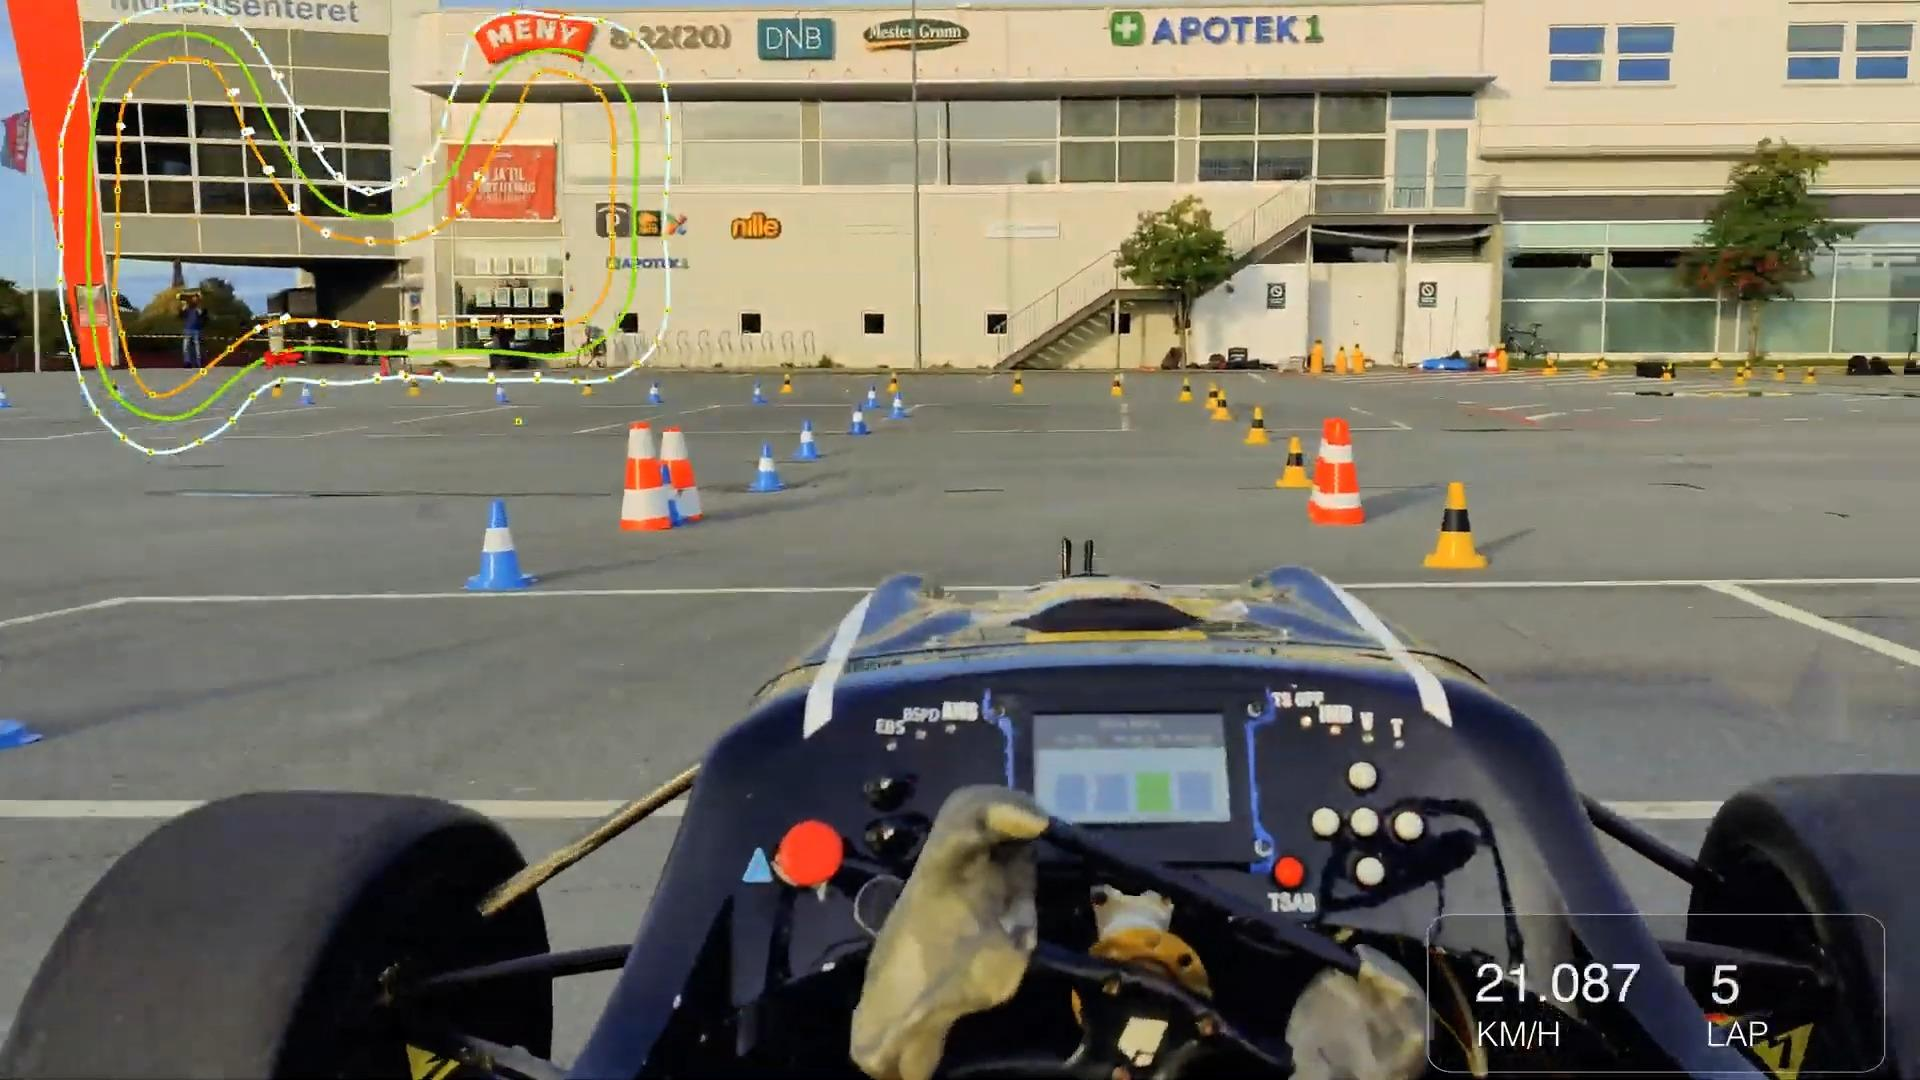blue_cone: (467, 497, 535, 592), (655, 463, 686, 527), (749, 443, 785, 492), (797, 420, 822, 462), (887, 395, 911, 420), (851, 405, 870, 435), (866, 385, 884, 412), (489, 382, 510, 403), (752, 383, 769, 407), (649, 380, 664, 407)
large_orange_cone: (650, 425, 707, 523), (1311, 418, 1364, 522), (621, 420, 670, 528)
yellow_cone: (1424, 483, 1487, 570), (1277, 435, 1314, 488), (1245, 405, 1271, 445), (1214, 392, 1234, 422), (1206, 383, 1222, 410), (1179, 377, 1195, 402), (1111, 373, 1127, 397), (1012, 372, 1027, 395), (781, 373, 795, 395), (889, 370, 900, 395)
